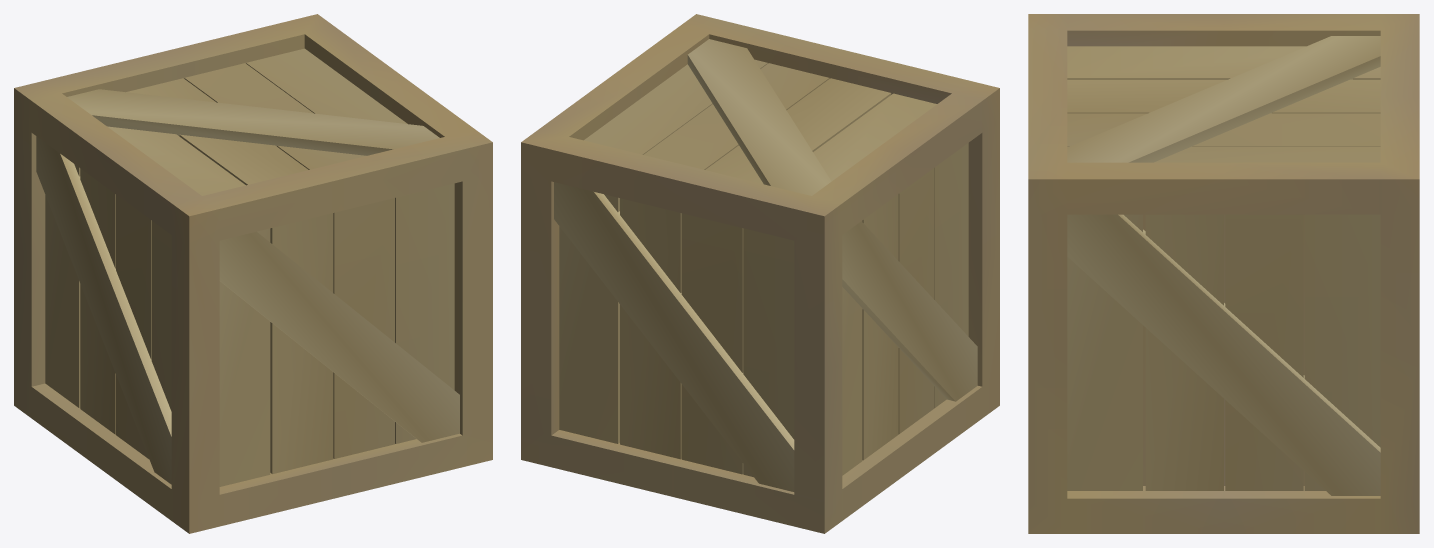
File: woodenBox.glb
3 views of the same model, side by side, from view 1: azimuth 30°, elevation 25°; view 2: azimuth 150°, elevation 25°; view 3: azimuth 270°, elevation 25° (orthographic). The views are drawn at different scales.
Visible parts, largest first — view 1: woodenBox.002; view 2: woodenBox.002; view 3: woodenBox.002.
Part boxes in pixels (x1,y1,x2,y2): woodenBox.002: (14, 14, 492, 533); woodenBox.002: (521, 14, 999, 533); woodenBox.002: (1028, 14, 1419, 533).
Bounding box in the file's own units: 1 × 1 × 1.
